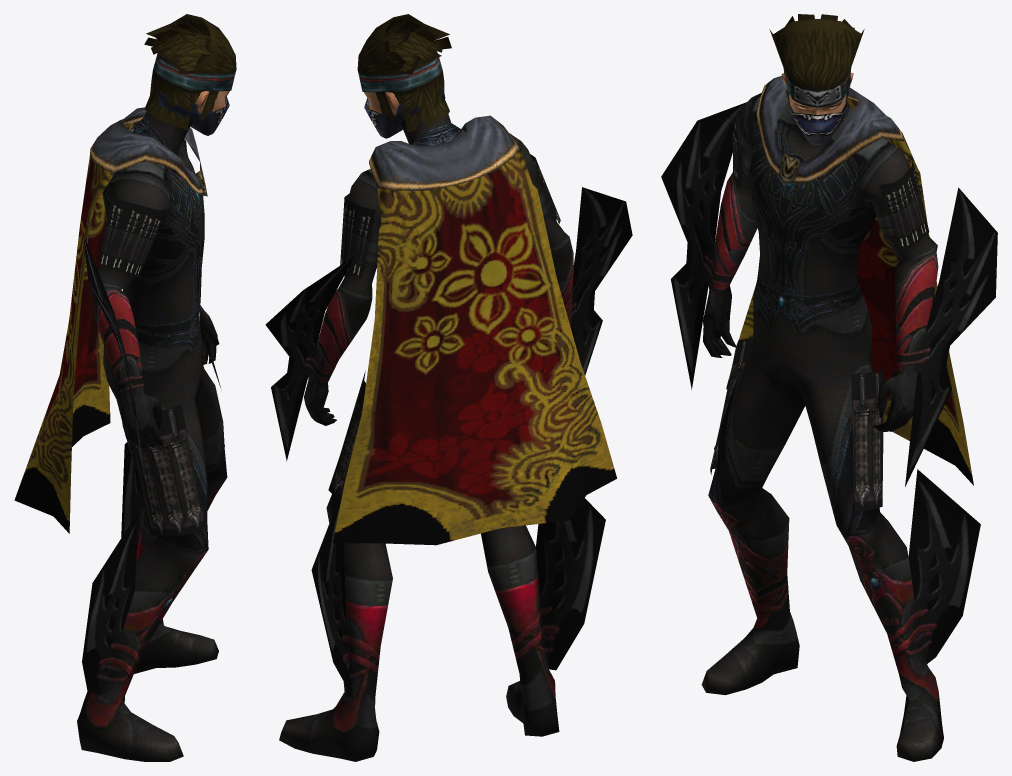
File: target_pn30_map248_20260708-191303.obj
3 renders of one model, left to right at view 1: azimuth 30°, elevation 25°; view 2: azimuth 150°, elevation 25°; view 3: azimuth 270°, elevation 25°, orthographic. The views are drawn at different scales.
Visible parts, largest first — view 1: object_1, object_7, object_8, object_3, object_6, object_2, object_0, object_5, object_4; view 2: object_8, object_1, object_7, object_3, object_6, object_2, object_0, object_5; view 3: object_1, object_7, object_8, object_3, object_6, object_5, object_2, object_4.
Part boxes in pixels (x1,y1,x2,y2): object_1: (77,111,227,761); object_7: (82,196,224,694); object_8: (14,124,133,533); object_3: (90,107,207,196); object_6: (144,14,236,130); object_2: (153,32,236,91); object_0: (144,23,212,73); object_5: (157,91,229,135); object_4: (195,90,229,113); object_8: (333,149,616,545); object_1: (279,114,573,761); object_7: (265,154,632,697); object_3: (369,115,520,190); object_6: (357,14,449,132); object_2: (357,33,442,92); object_0: (382,21,451,74); object_5: (364,87,445,138); object_1: (701,93,943,761); object_7: (661,102,997,663); object_8: (726,98,973,485); object_3: (756,76,904,185); object_6: (769,19,864,111); object_5: (788,101,847,144); object_2: (783,68,850,107); object_4: (781,73,853,114).
Bounding box in the file's own units: 24.9 × 66.69 × 28.63.
4 materials, 4 textured.
